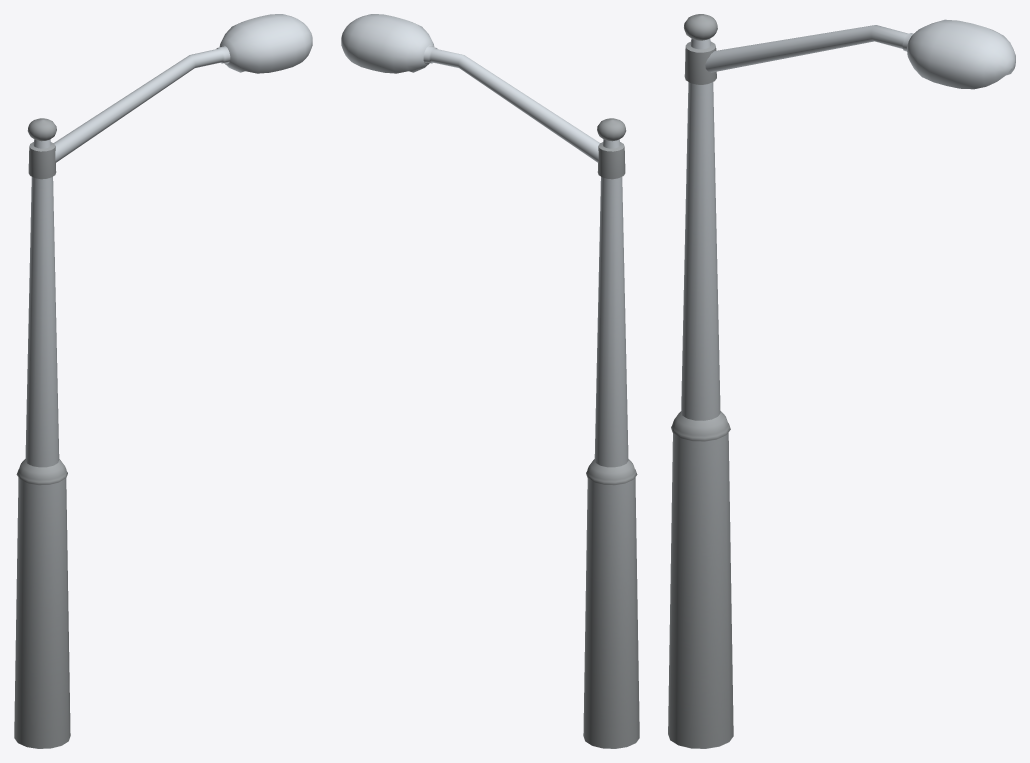
Rendered from lamp.obj.
3 views of the same model, side by side, from view 1: azimuth 30°, elevation 25°; view 2: azimuth 150°, elevation 25°; view 3: azimuth 330°, elevation 25° (orthographic). The views are drawn at different scales.
Visible parts, largest first — view 1: pCylinder4; view 2: pCylinder4; view 3: pCylinder4.
Boxes of the visible parts, x1,y1,x2,y2 form: pCylinder4: (14, 14, 312, 748); pCylinder4: (341, 14, 639, 748); pCylinder4: (668, 14, 1015, 748).
Size of the model in its own units: 1.51 by 3.28 by 0.3121.
